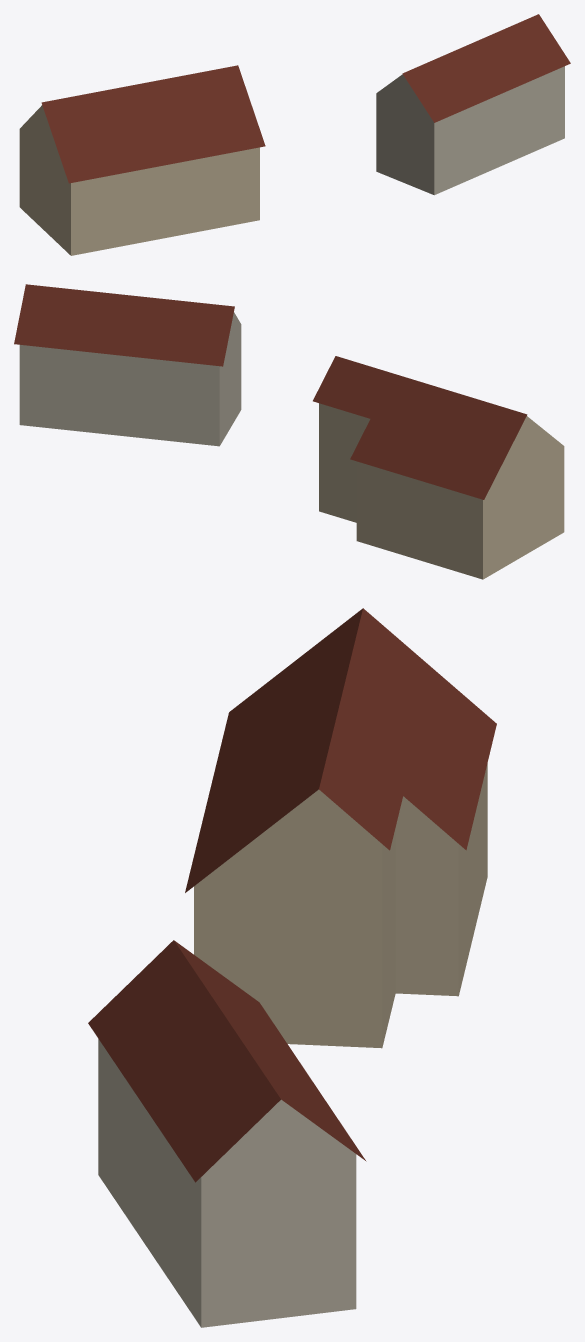
The picture shows the model from 3 angles, top to bottom: view 1: azimuth 30°, elevation 25°; view 2: azimuth 150°, elevation 25°; view 3: azimuth 270°, elevation 25°; orthographic projection. The views are drawn at different scales.
Visible parts, largest first — view 1: buildings; view 2: buildings; view 3: buildings.
Boxes of the visible parts, <box> form: buildings: <box>19,14,570,255</box>; buildings: <box>14,284,564,579</box>; buildings: <box>88,608,496,1327</box>.
Size of the model in its own units: 40.27 by 10.12 by 14.44.
